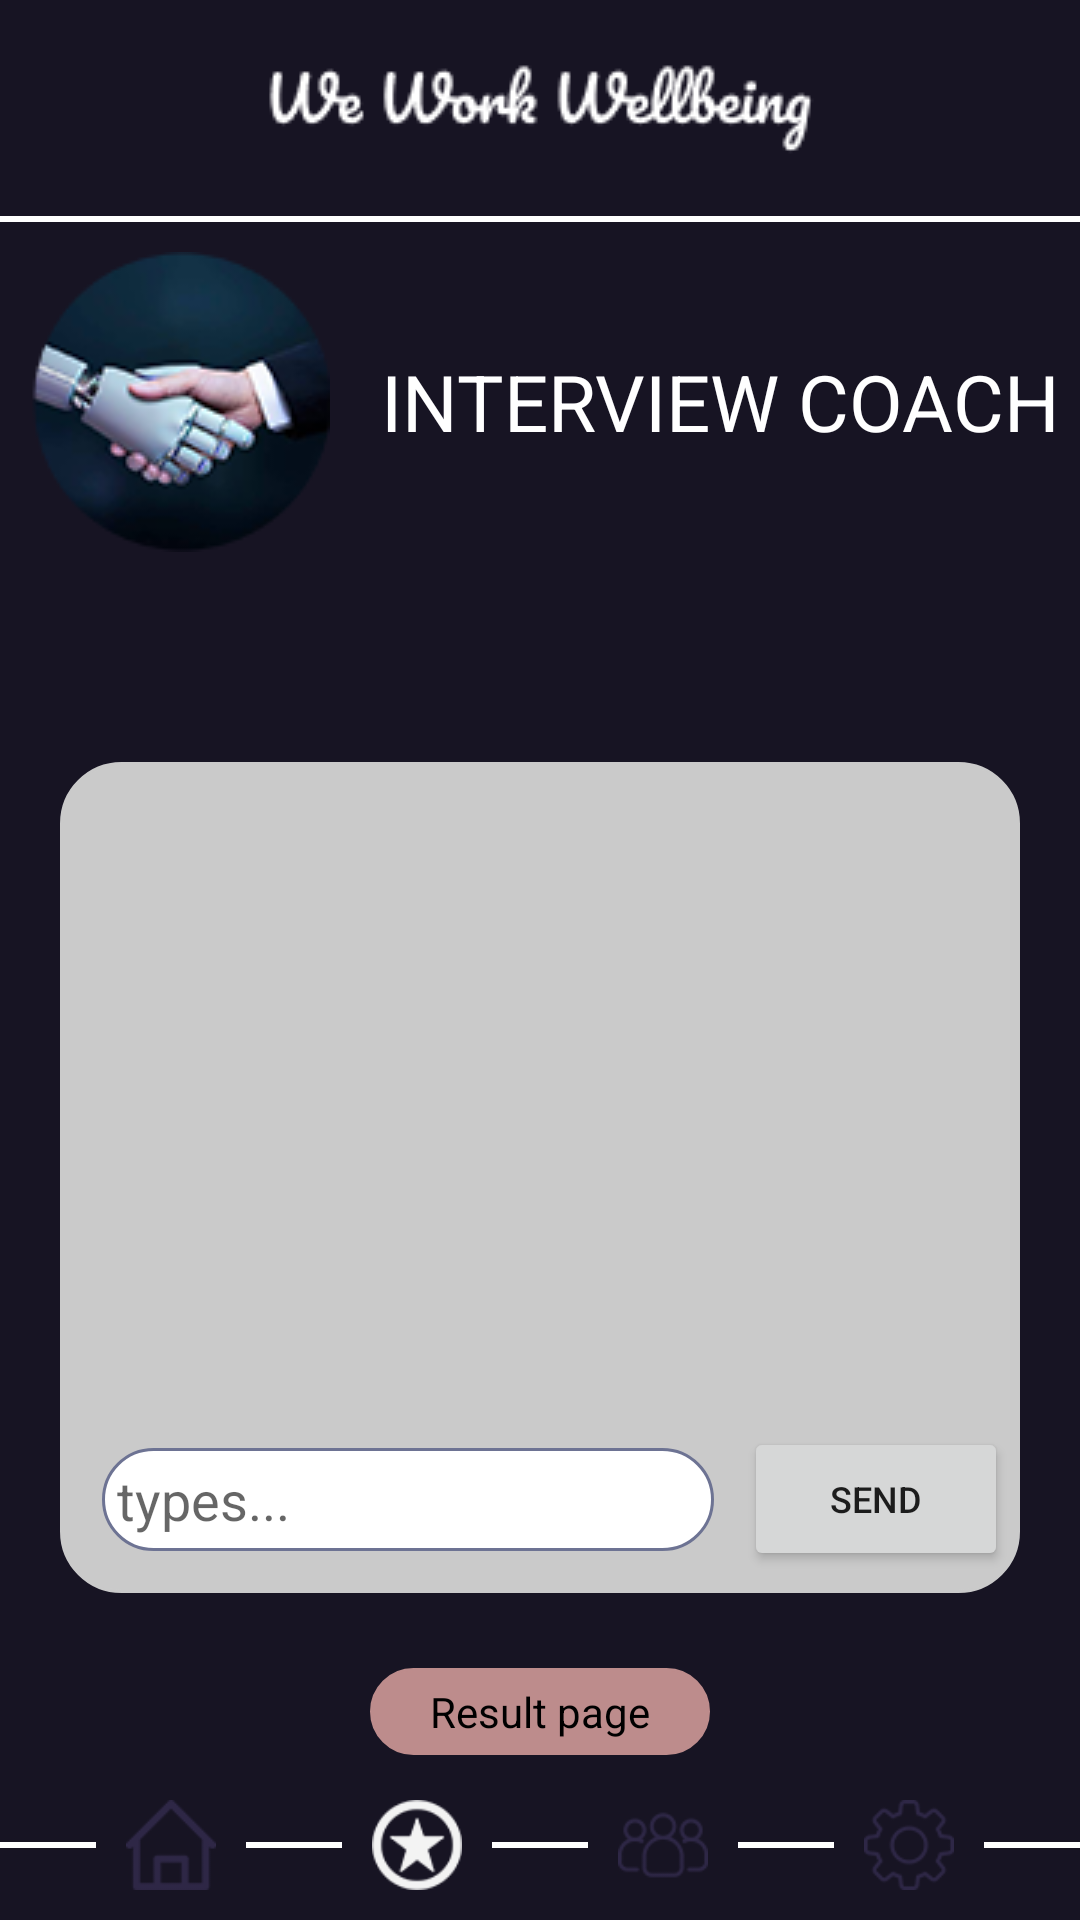

Screen size 1080px×1920px. Icon name, then its box in pixels as (x1, y1, x2, y2):
home: (126, 1800, 216, 1890)
settings: (864, 1800, 954, 1890)
star: (372, 1800, 462, 1890)
team: (618, 1814, 708, 1877)
